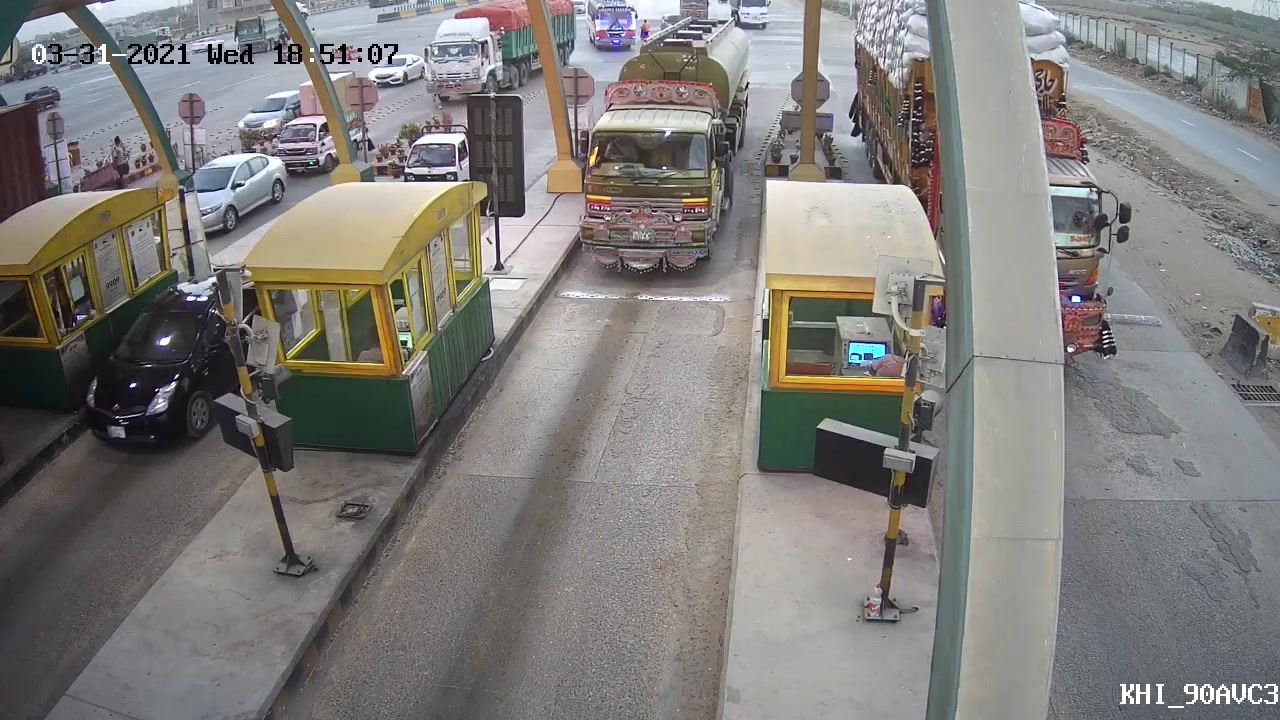F6: (567, 13, 765, 282)
